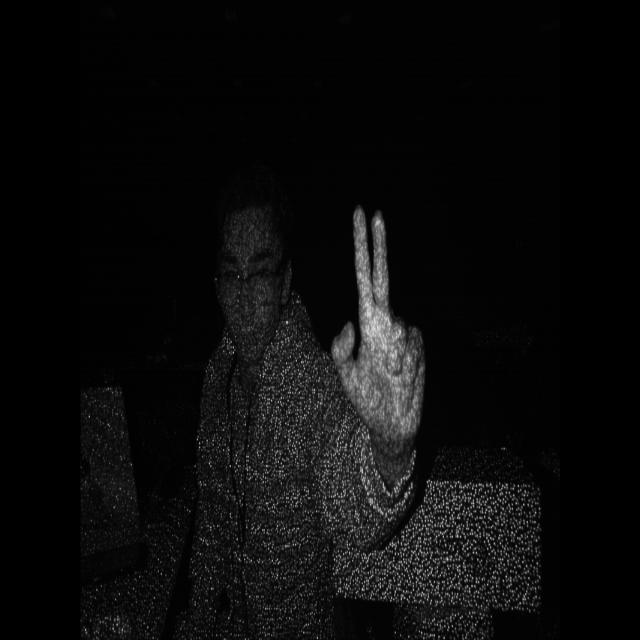K: (323, 194, 438, 454)
